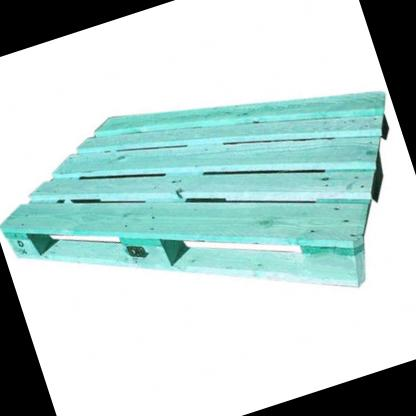BoxFace: (0, 83, 396, 294)
